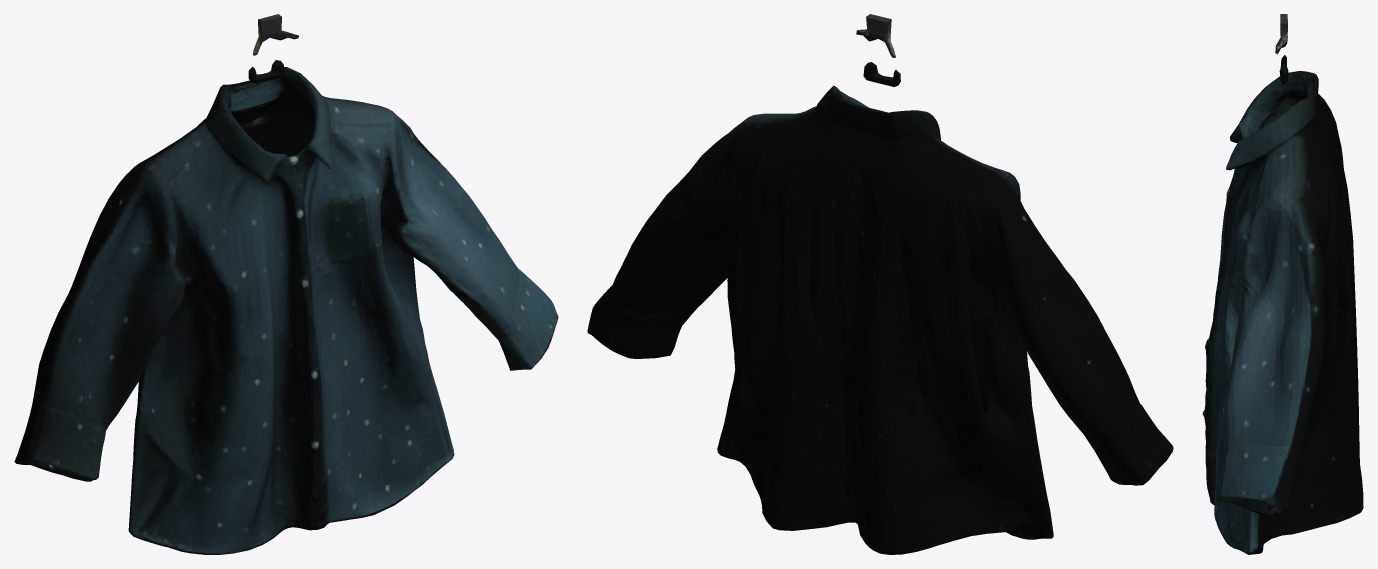
File: shirt.glb
The picture shows the model from 3 angles, left to right: view 1: azimuth 30°, elevation 25°; view 2: azimuth 150°, elevation 25°; view 3: azimuth 270°, elevation 25°; orthographic projection. The views are drawn at different scales.
Visible parts, largest first — view 1: world; view 2: world; view 3: world.
Part boxes in pixels (x1=…): world: x1=14, y1=14, x2=558, y2=554; world: x1=587, y1=14, x2=1173, y2=554; world: x1=1202, y1=14, x2=1363, y2=554.
Bounding box in the file's own units: 1 × 0.8729 × 0.264.
1 material, 1 textured.
